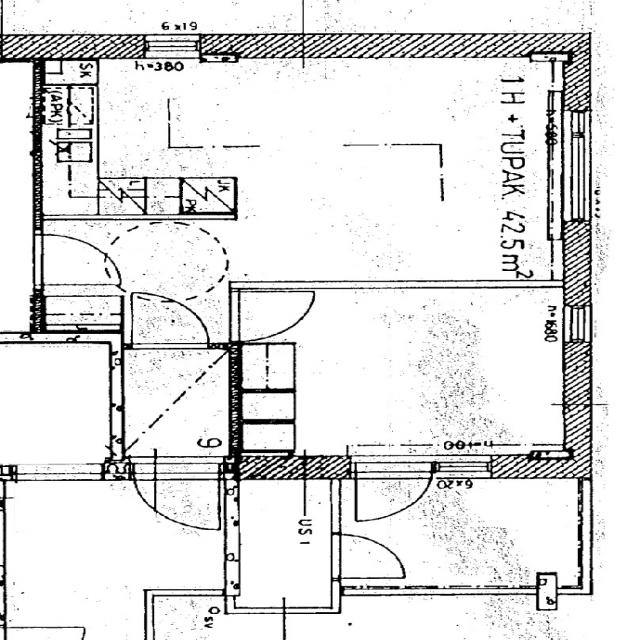door: (133, 456, 219, 534), (355, 456, 431, 528), (30, 234, 121, 285), (132, 294, 207, 351), (229, 291, 315, 339), (331, 535, 403, 577)
